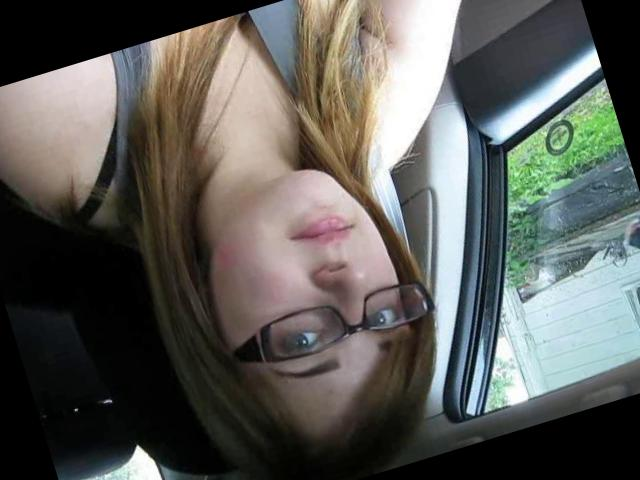eye_open: (260, 310, 338, 368), (360, 289, 414, 340)
face: (179, 147, 434, 424)
